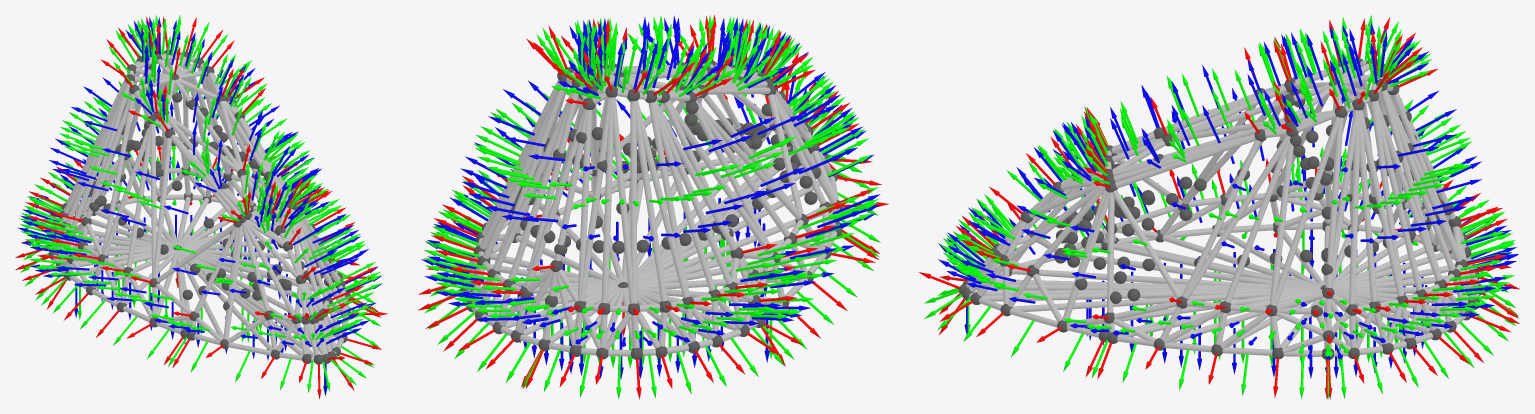
The model's file is t2f_iron.gltf.
3 views of the same model, side by side, from view 1: azimuth 30°, elevation 25°; view 2: azimuth 150°, elevation 25°; view 3: azimuth 270°, elevation 25° (orthographic). The views are drawn at different scales.
Bounding box in the file's own units: 0.6257 × 0.5301 × 0.9409.
